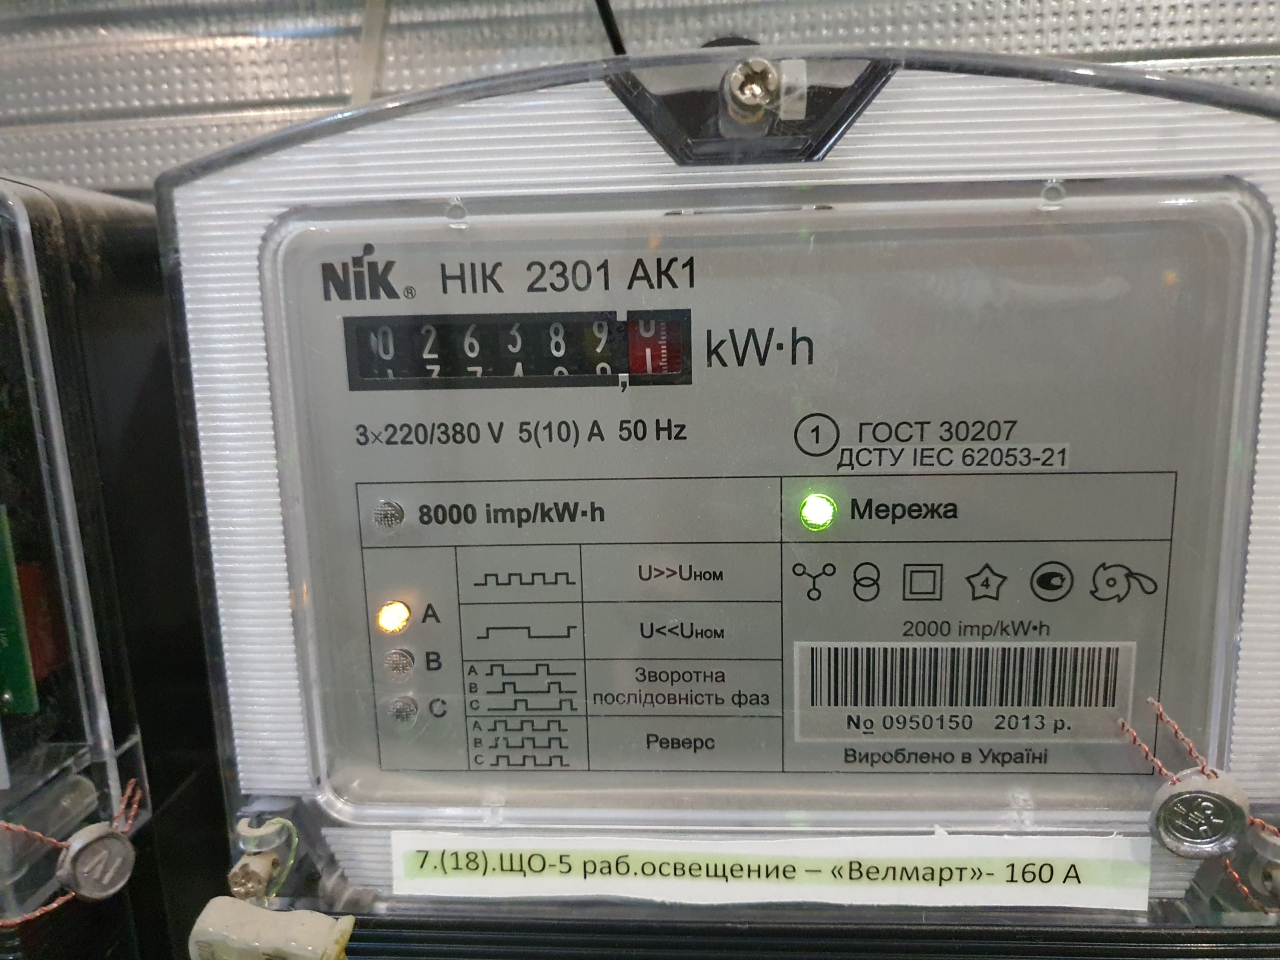0: (374, 322, 397, 362), (638, 318, 656, 338)
1: (642, 344, 655, 375)
2: (418, 322, 442, 360)
3: (506, 320, 523, 355)
6: (462, 320, 480, 360)
8: (548, 320, 568, 358)
9: (591, 319, 609, 353)
screen: (329, 297, 708, 402)
